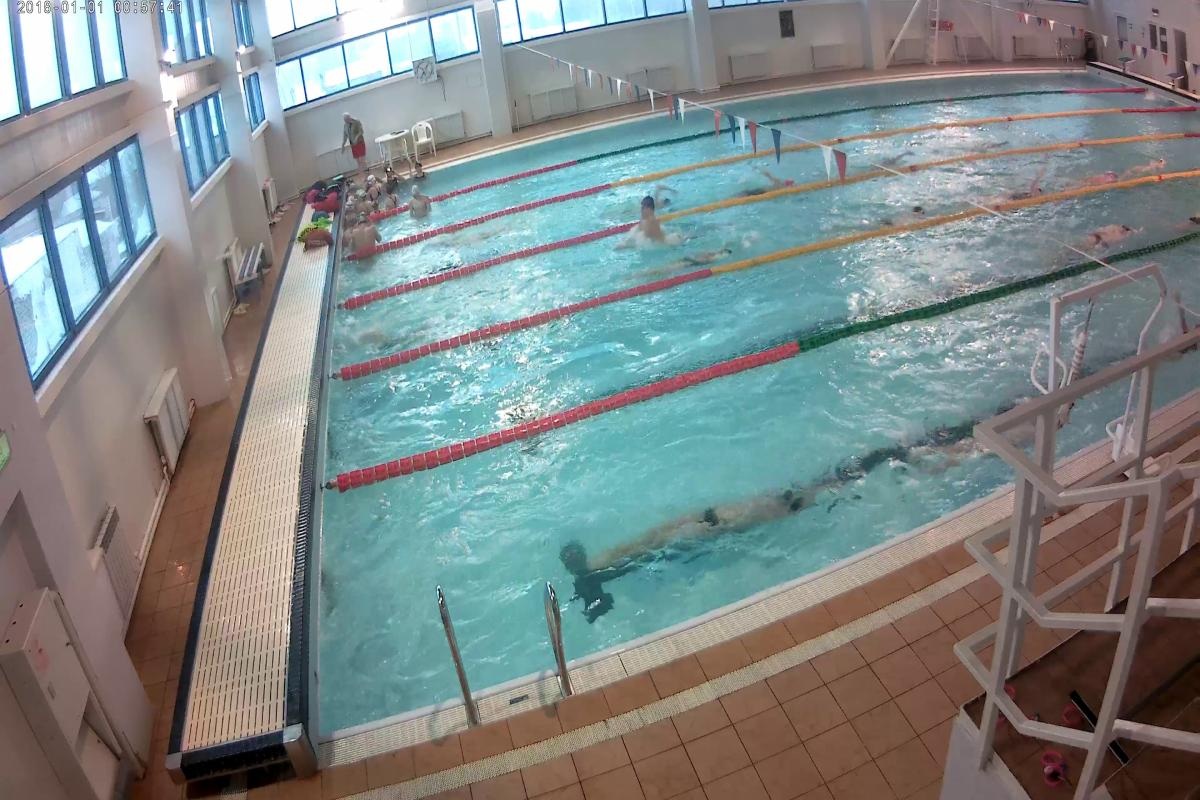swimmer: (636, 476, 819, 562), (1062, 218, 1144, 254), (622, 194, 669, 253), (864, 198, 930, 228), (742, 166, 798, 198), (990, 168, 1052, 196), (1071, 162, 1119, 184), (1129, 153, 1171, 175)
